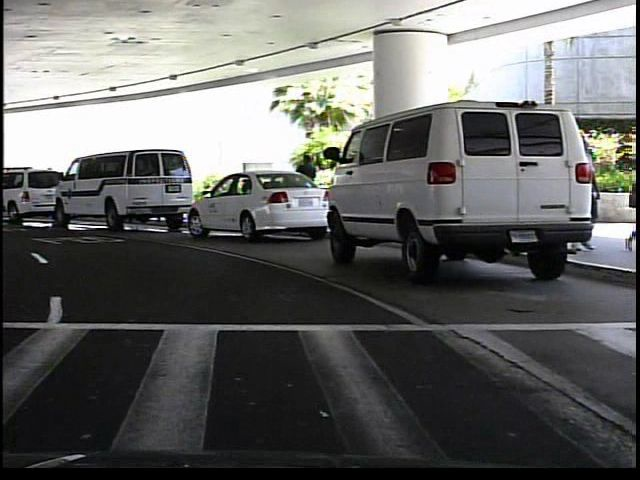person: (292, 149, 322, 222)
